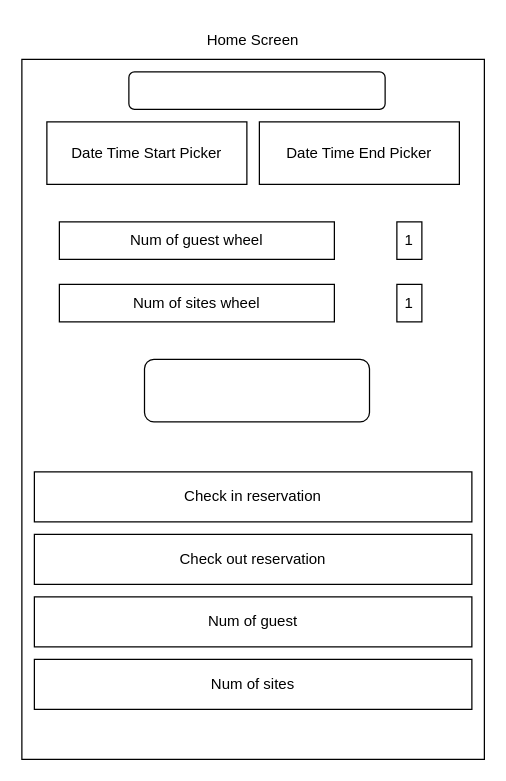
Some shapes in this 506 by 781 pixel diagram are drawn without their labels. The shapes that lost their labels are listed below. From the top down, each one's centre as x and y in pixels, then its label:
At point (256, 90): "Campground Name".
At point (256, 390): "View Reservation".
